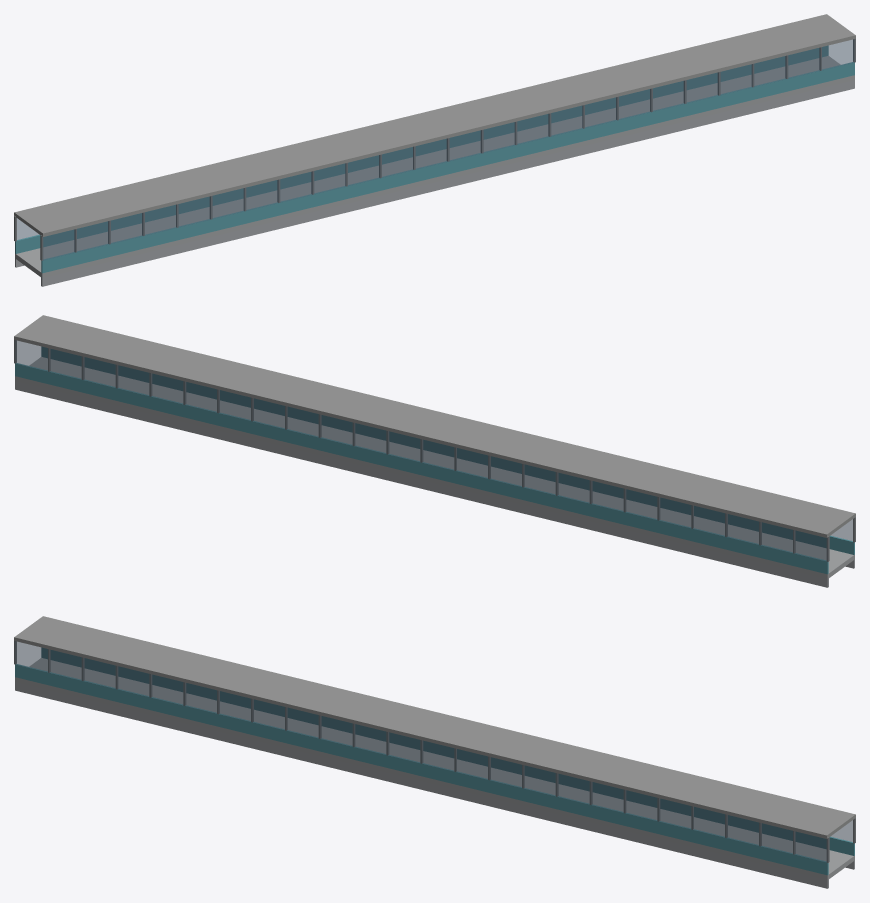
The model's file is hosp-bridge-60.mega-v1.lod1.glb.
The picture shows the model from 3 angles, top to bottom: view 1: azimuth 30°, elevation 25°; view 2: azimuth 150°, elevation 25°; view 3: azimuth 330°, elevation 25°; orthographic projection.
Parts seen in each view (by area): view 1: hosp-bridge-60; view 2: hosp-bridge-60; view 3: hosp-bridge-60.
Part boxes in pixels (x1,y1,x2,y2): hosp-bridge-60: (14,14,855,286); hosp-bridge-60: (14,315,855,587); hosp-bridge-60: (14,616,855,888).
Bounding box in the file's own units: 60.12 × 3.8 × 3.7.
